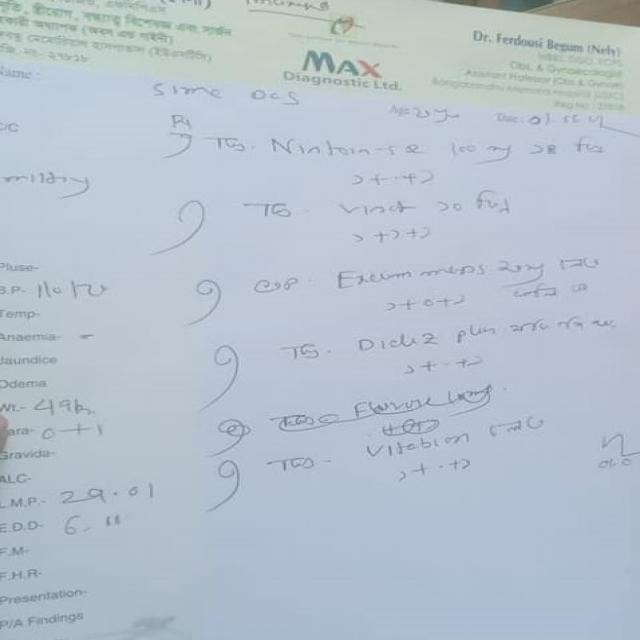Dicliz Plus: (338, 321, 510, 356)
Exium Mups: (324, 251, 495, 296)
Nintoin SR: (261, 130, 434, 167)
Viset: (327, 195, 427, 223)
Vitabion: (351, 428, 485, 468)
